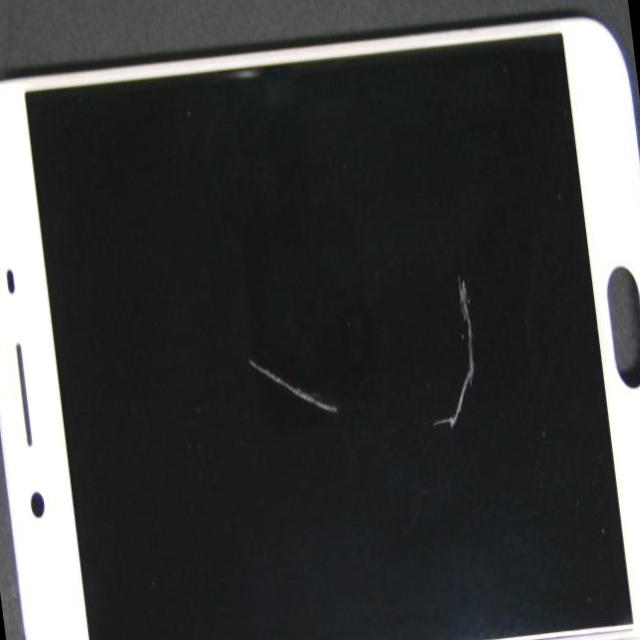scratch: (228, 126, 640, 479), (183, 175, 495, 567)
